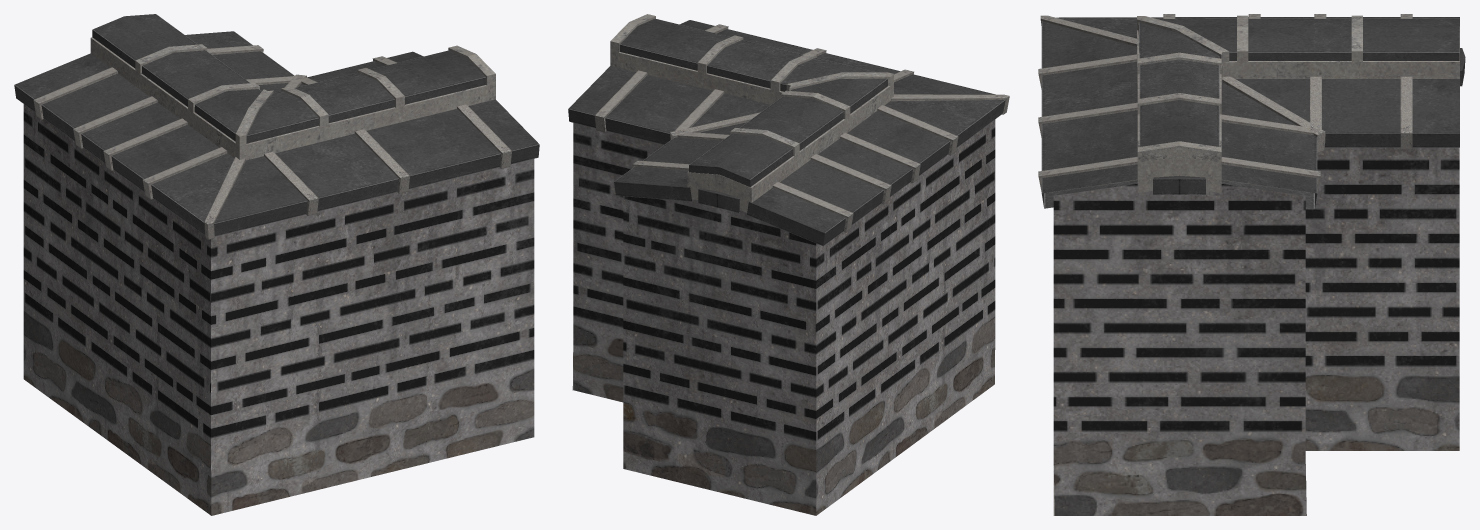
File: SM_Battlement02a.fbx
3 renders of one model, left to right at view 1: azimuth 30°, elevation 25°; view 2: azimuth 150°, elevation 25°; view 3: azimuth 270°, elevation 25°, orthographic. The views are drawn at different scales.
Visible parts, largest first — view 1: SM_Battlement02a; view 2: SM_Battlement02a; view 3: SM_Battlement02a.
Part boxes in pixels (left/top/right/bottom): SM_Battlement02a: left=14, top=14, right=539, bottom=515; SM_Battlement02a: left=568, top=14, right=1009, bottom=515; SM_Battlement02a: left=1038, top=14, right=1465, bottom=515.
Size of the model in its own units: 153 by 152 by 146.
1 material, 1 textured.
